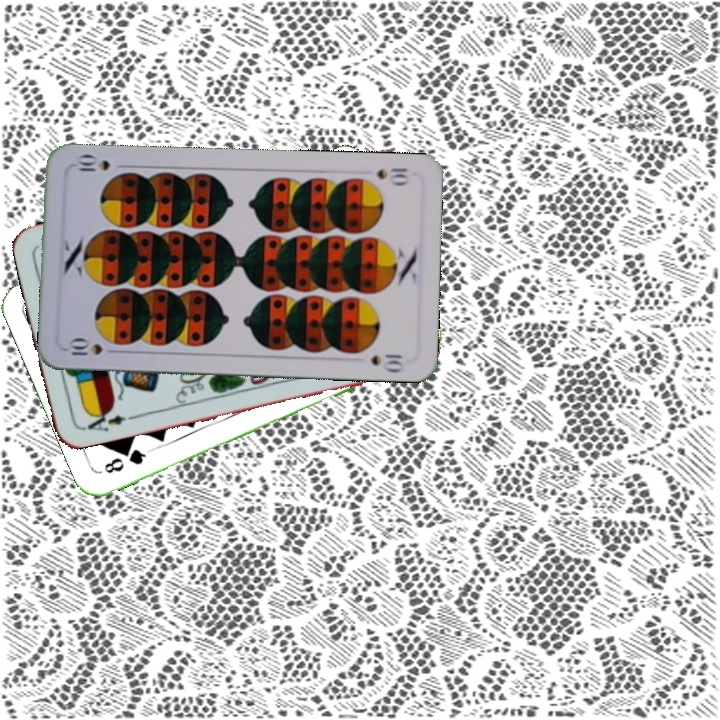EA: (77, 405, 129, 434)
G8: (99, 444, 154, 477)
S10: (62, 336, 121, 358), (372, 163, 411, 187)
